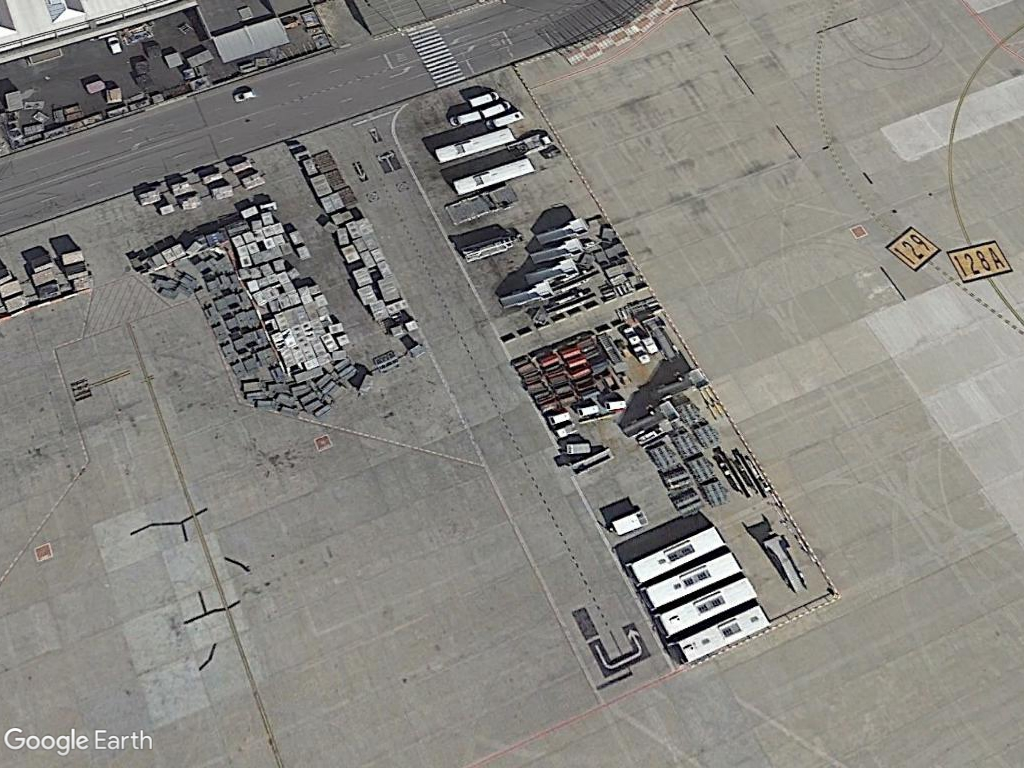bus: (427, 126, 516, 168)
pushbacktruck: (504, 128, 556, 159)
stairtruck: (756, 530, 816, 596), (532, 209, 594, 247)
